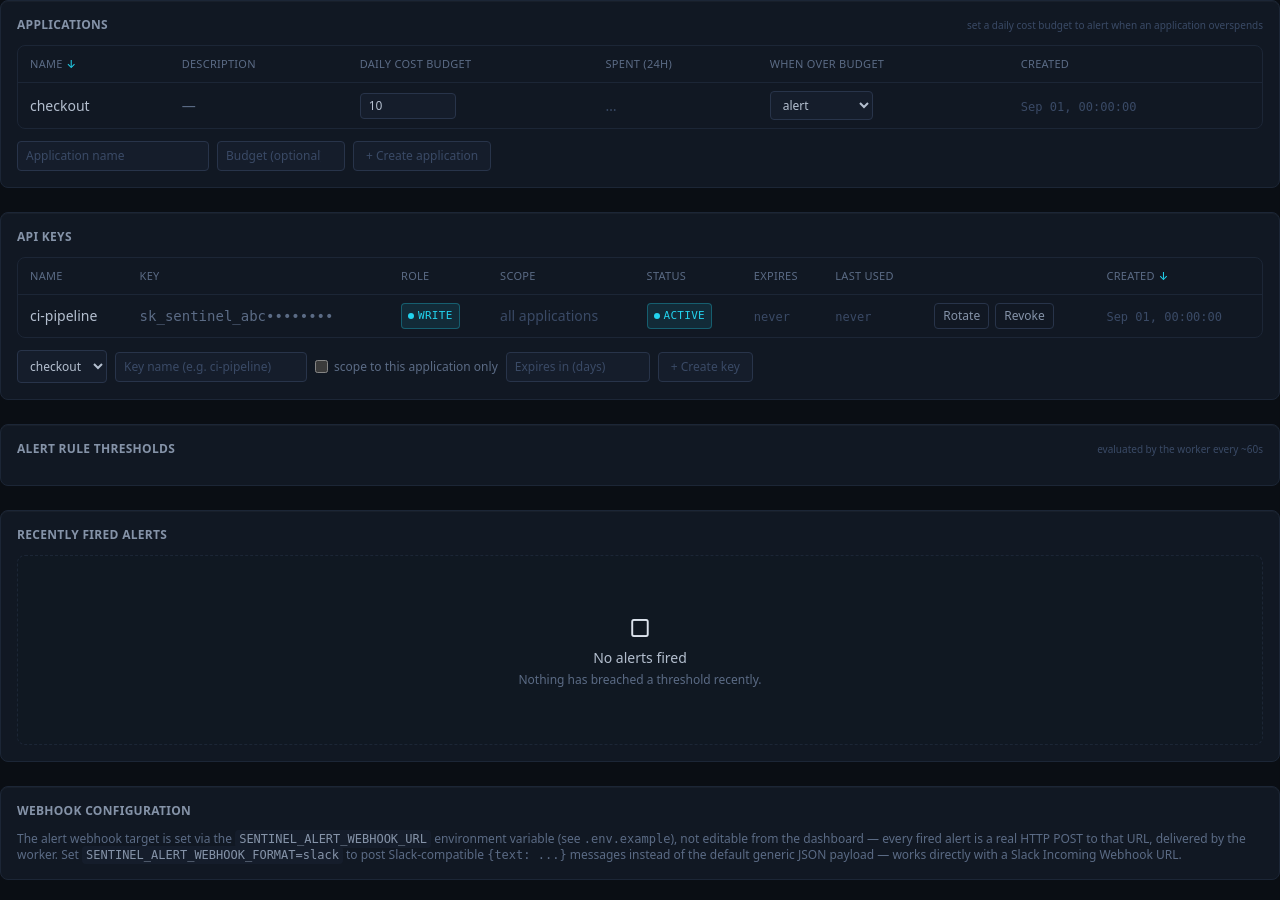
Scenario: Settings — API key lifecycle › refuses a nonsensical grace period instead of sending it
This screenshot has width=1280, height=900.
Click the button "Rotate" at (962, 316), box x1=934 y1=303 x2=989 y2=329
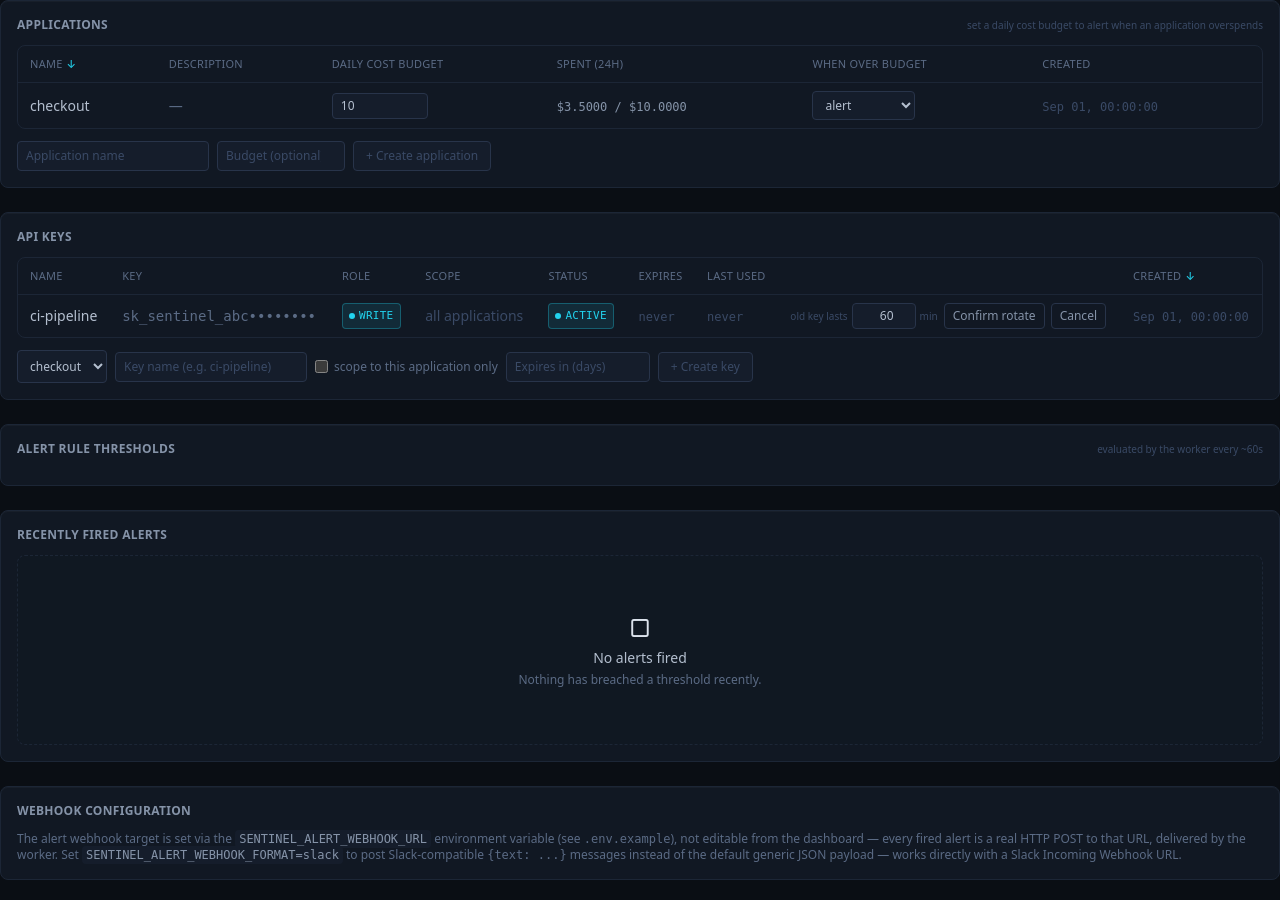
Replace the text in the number field named "Grace period in minutes" with "-5" at (884, 316), box x1=852 y1=303 x2=916 y2=329
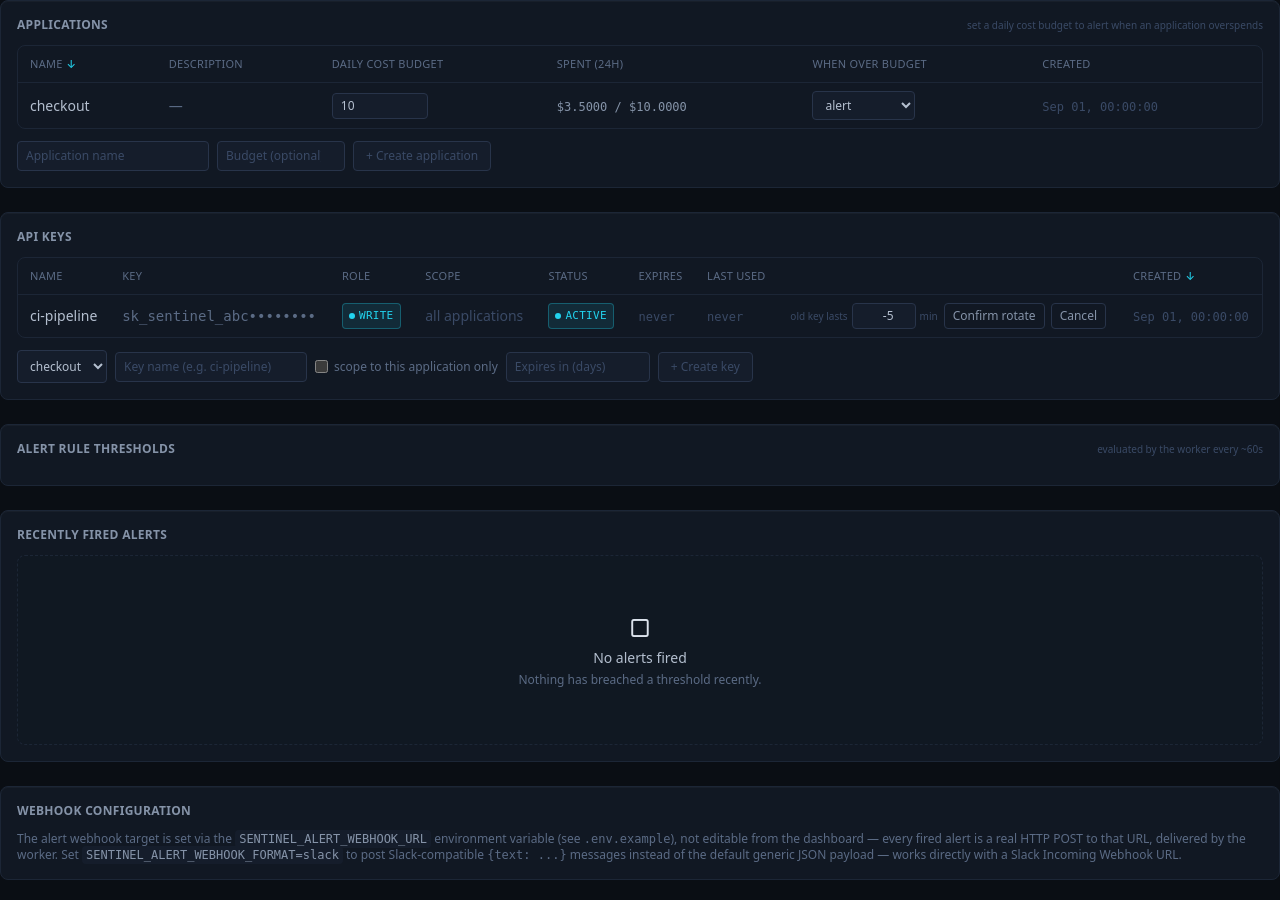
Click the button "Confirm rotate" at (994, 316), box x1=944 y1=303 x2=1045 y2=329
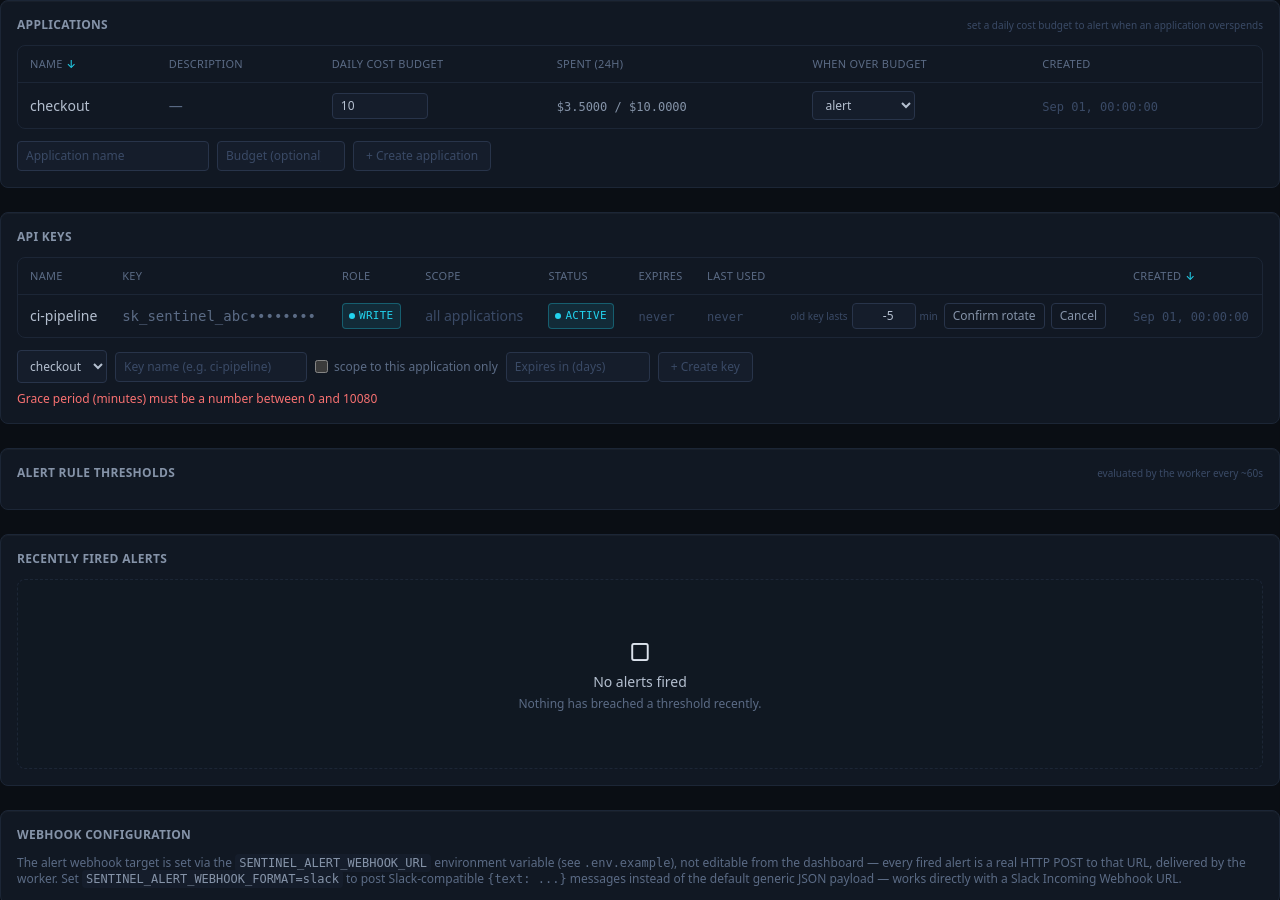
Expected: the text "Grace period (minutes) must be a number between 0 and 10080" is shown, x1=17 y1=390 x2=377 y2=407
